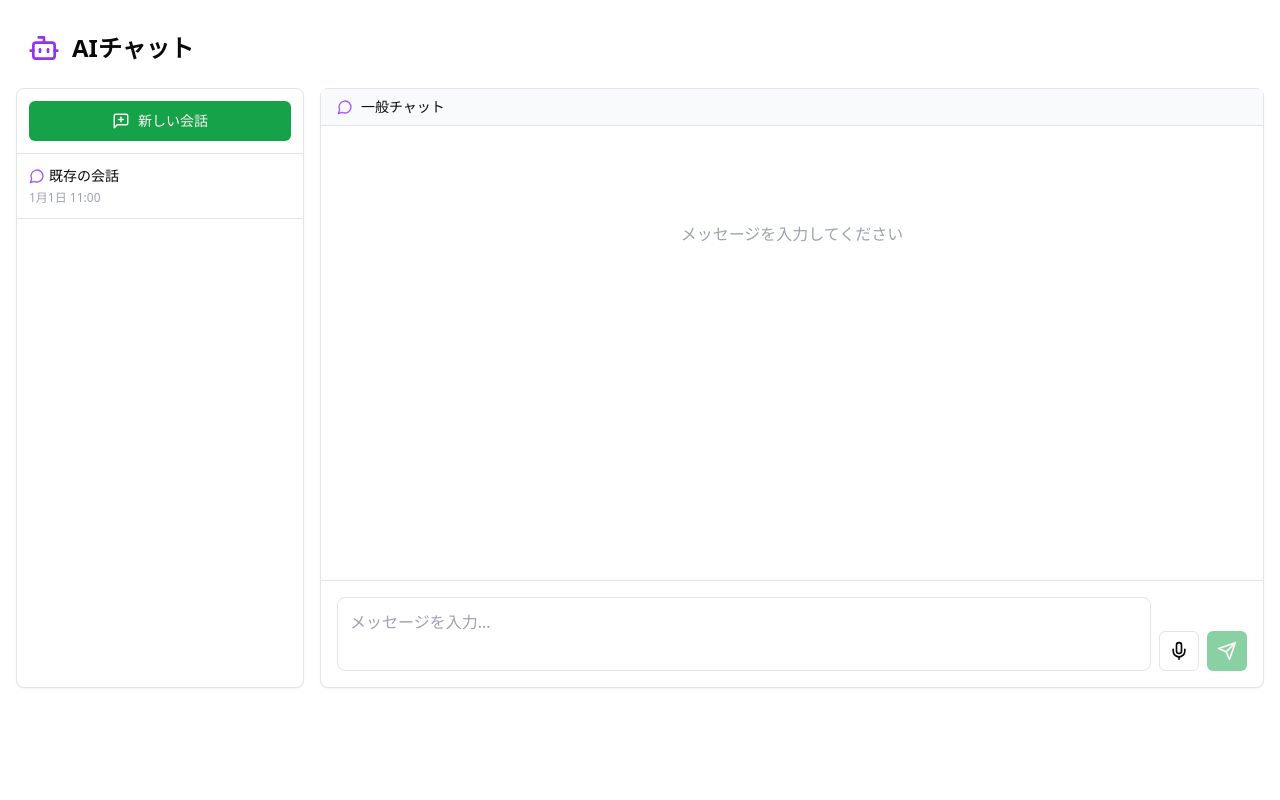
Test: GeminiChatPage › 既存会話へのメッセージ送信 › should use sendMessage for existing conversation
The image size is (1280, 800).
Click the text "既存の会話" at [84, 176], box [49,166,119,186]
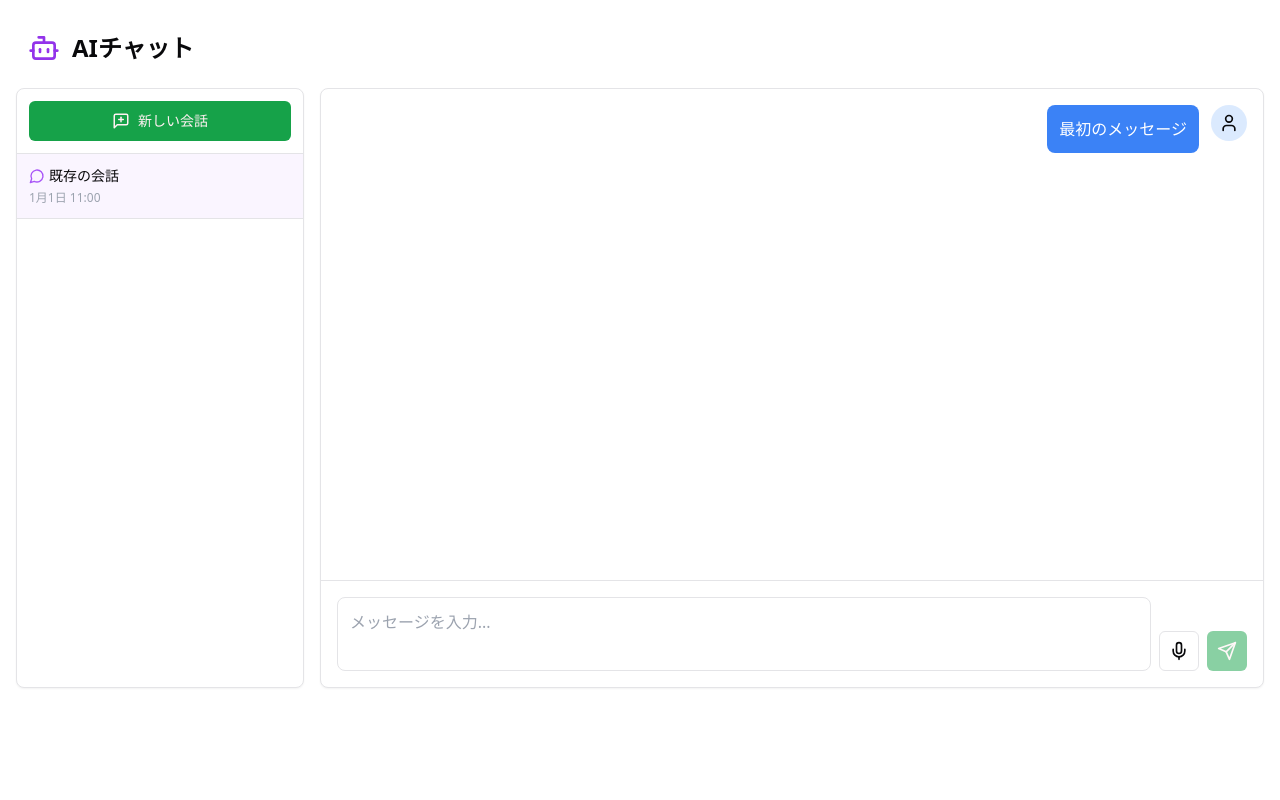
Expected: the text "最初のメッセージ" is shown, [1059,117,1187,141]
Type "続きの質問" into the text box with placeholder "メッセージを入力..." at [744, 634], box [337,597,1151,671]
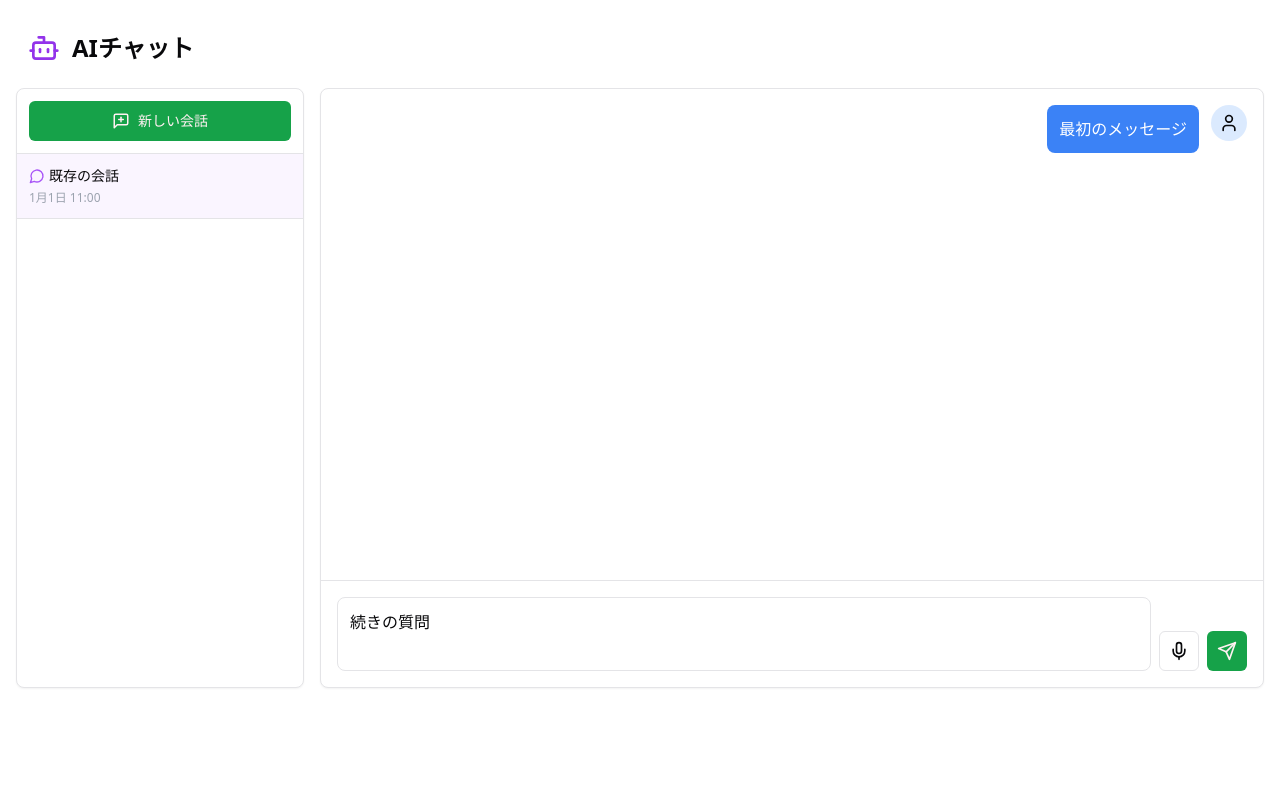
Click the 3rd button at [1227, 651], box [1207,631,1247,671]
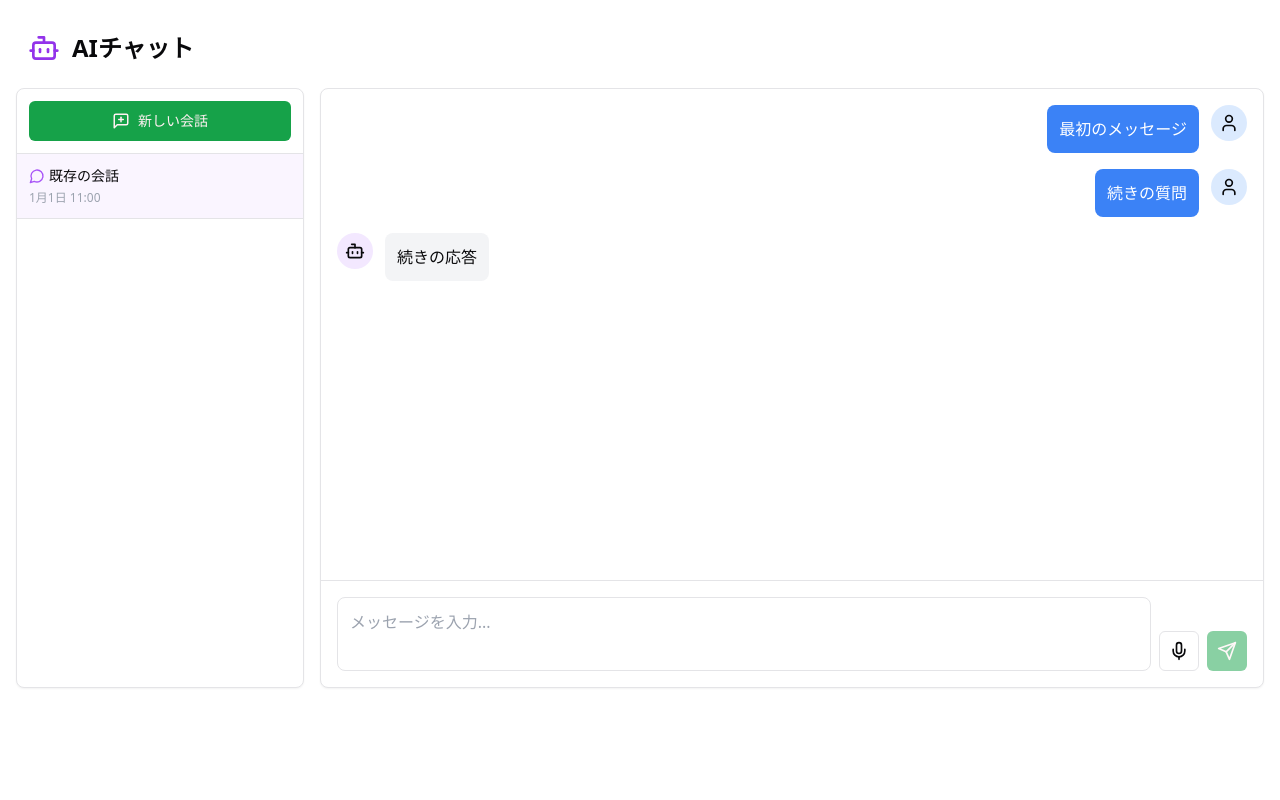
Expected: the text "続きの応答" is shown, [397,245,477,269]
